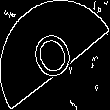O_SE: (27, 22, 83, 88)
